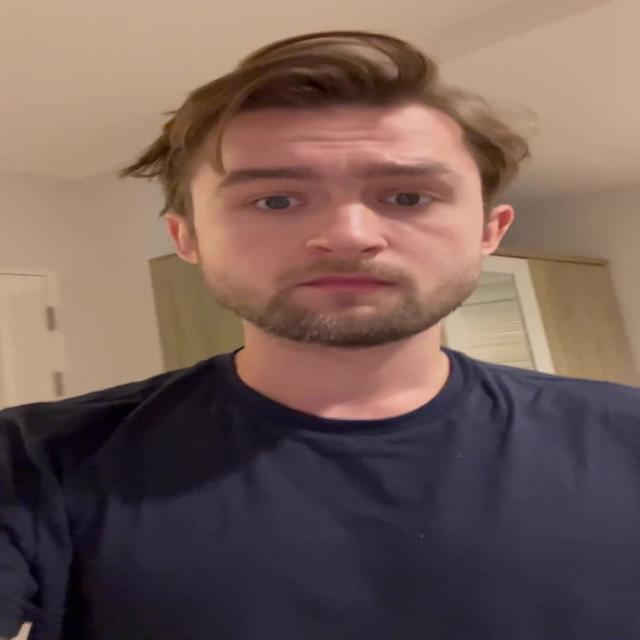earlobe: (162, 211, 201, 265), (481, 204, 515, 256)
